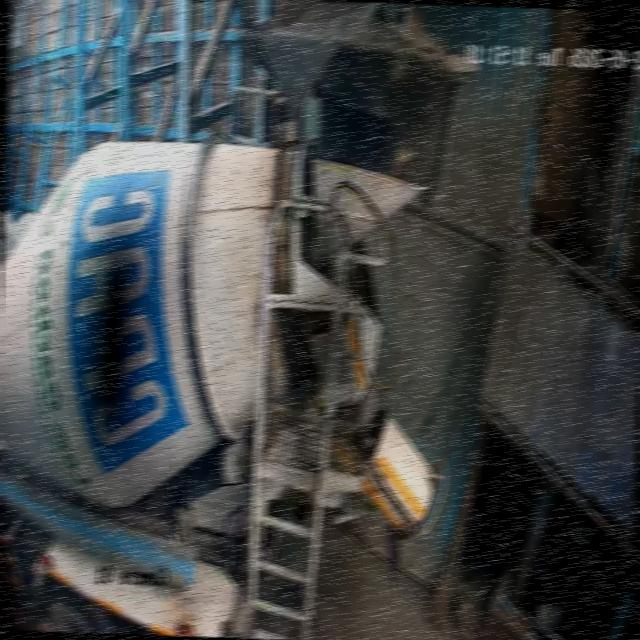cement_mixer_truck: (0, 134, 430, 640)
